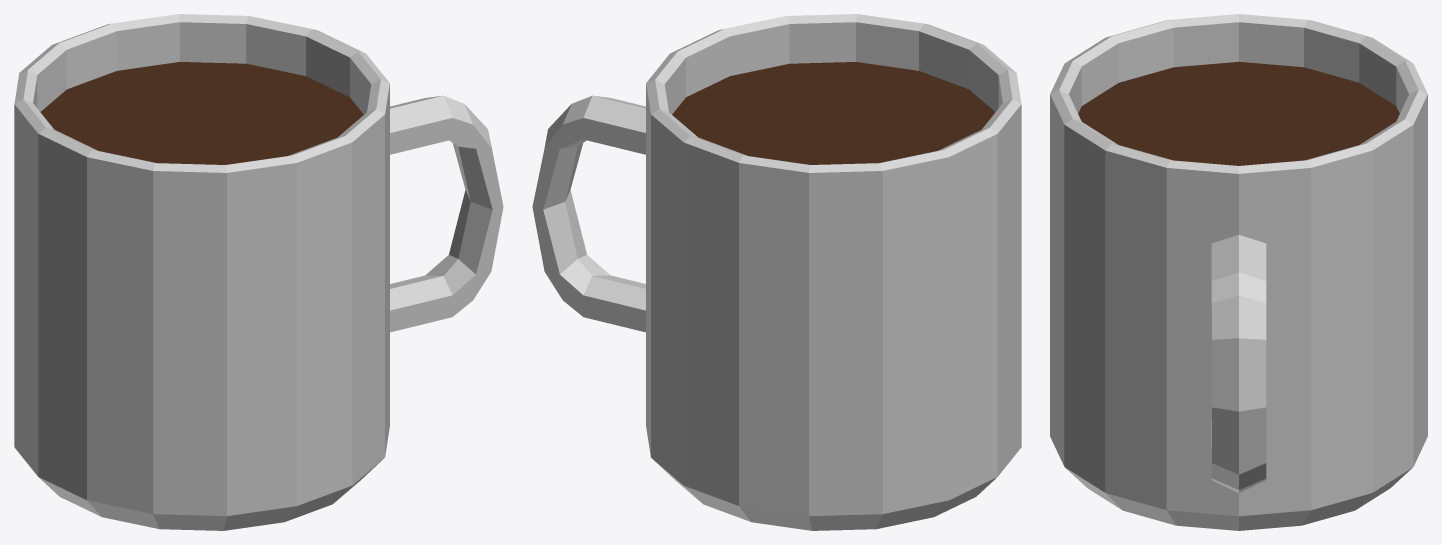
Rendered from Coffee_Mug.fbx.
3 views of the same model, side by side, from view 1: azimuth 30°, elevation 25°; view 2: azimuth 150°, elevation 25°; view 3: azimuth 270°, elevation 25° (orthographic).
Visible parts, largest first — view 1: Coffee_LOD0; view 2: Coffee_LOD0; view 3: Coffee_LOD0.
Boxes of the visible parts, left/top/right/bottom form: Coffee_LOD0: left=14, top=14, right=503, bottom=530; Coffee_LOD0: left=532, top=14, right=1021, bottom=530; Coffee_LOD0: left=1050, top=14, right=1427, bottom=530.
Bounding box in the file's own units: 43.81 × 33.88 × 31.22.
